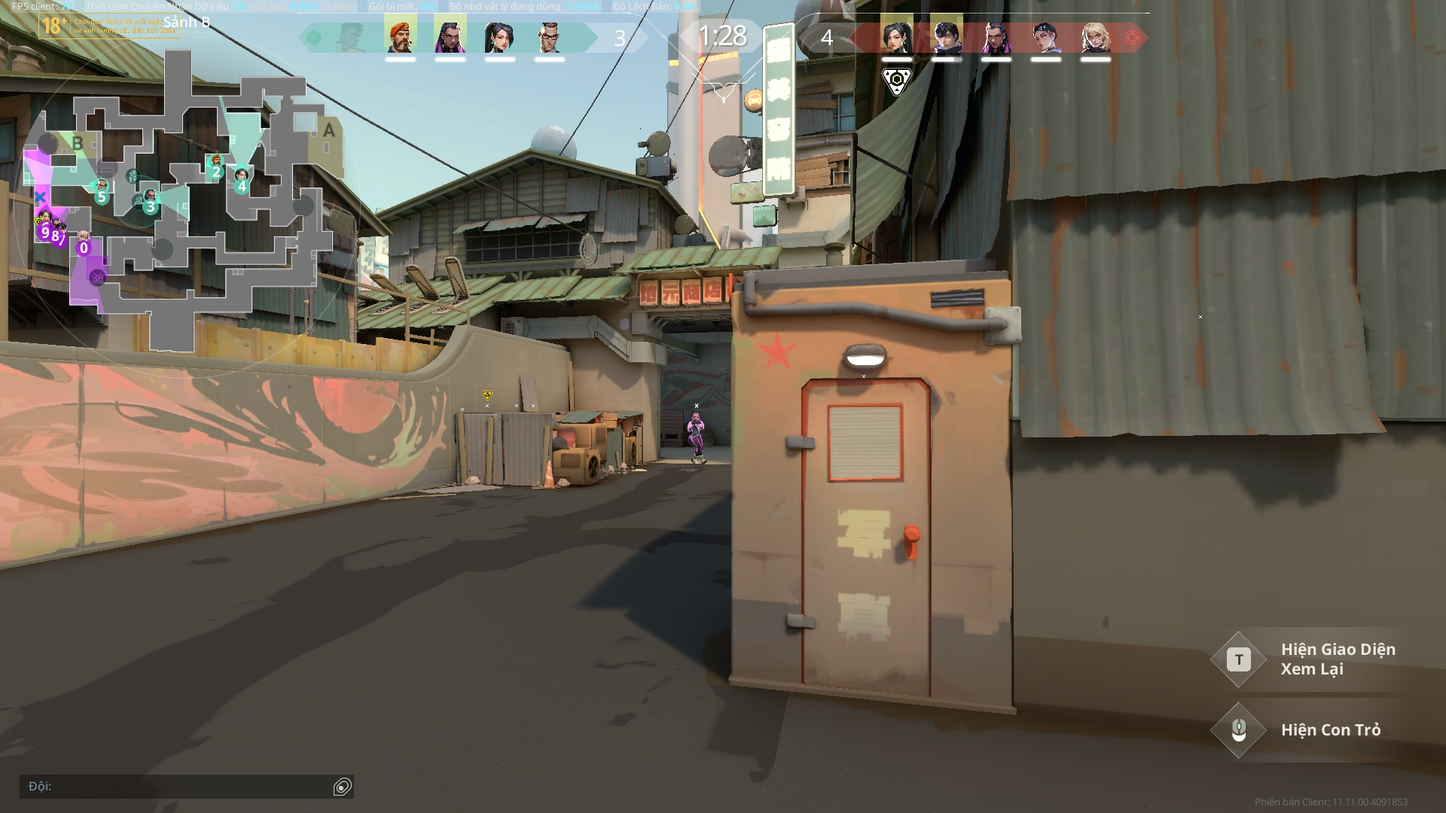body: (688, 419, 703, 434)
head: (692, 412, 699, 420)
